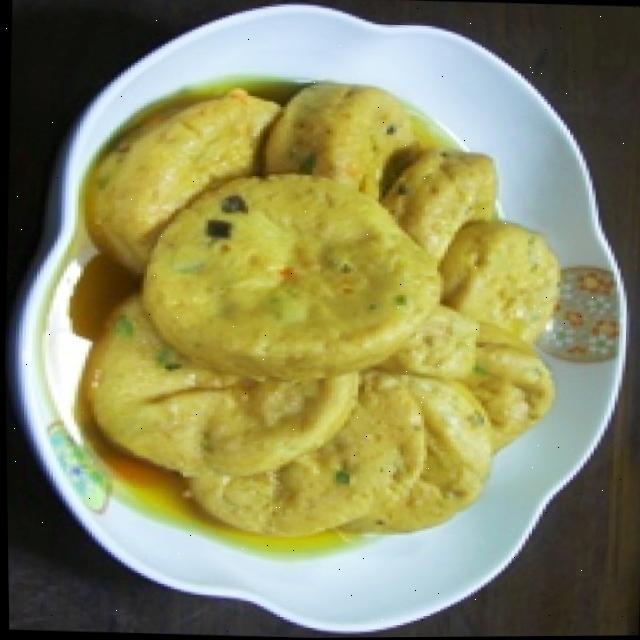熟制海鲜: (58, 23, 590, 588)
